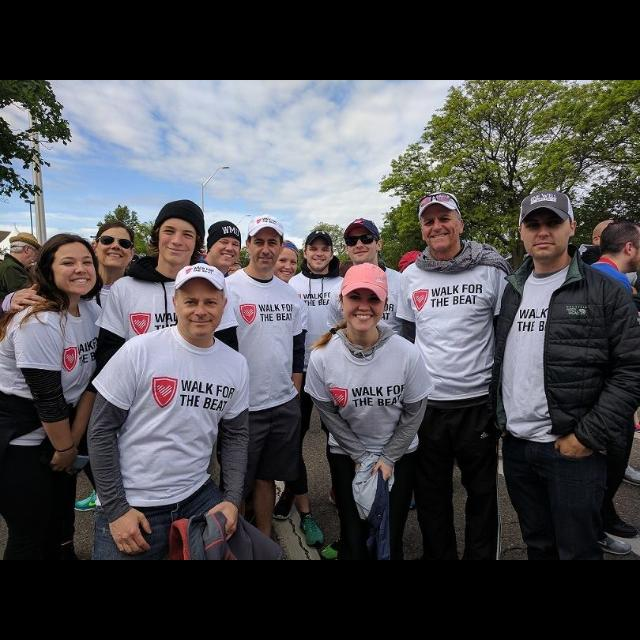head: (517, 188, 579, 262), (172, 268, 230, 340), (338, 264, 389, 334), (44, 234, 98, 296), (418, 191, 466, 255), (152, 209, 204, 267), (92, 220, 138, 272), (246, 218, 286, 272), (344, 218, 384, 266), (206, 222, 242, 268), (268, 240, 302, 284), (303, 230, 335, 274), (12, 234, 40, 268)
person: (270, 228, 370, 522), (236, 237, 326, 551), (0, 231, 50, 463)
